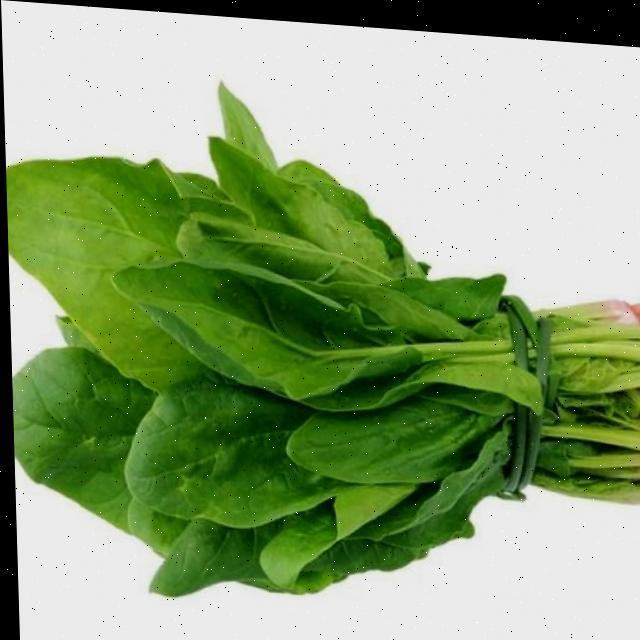Spinach: (1, 59, 640, 634)
